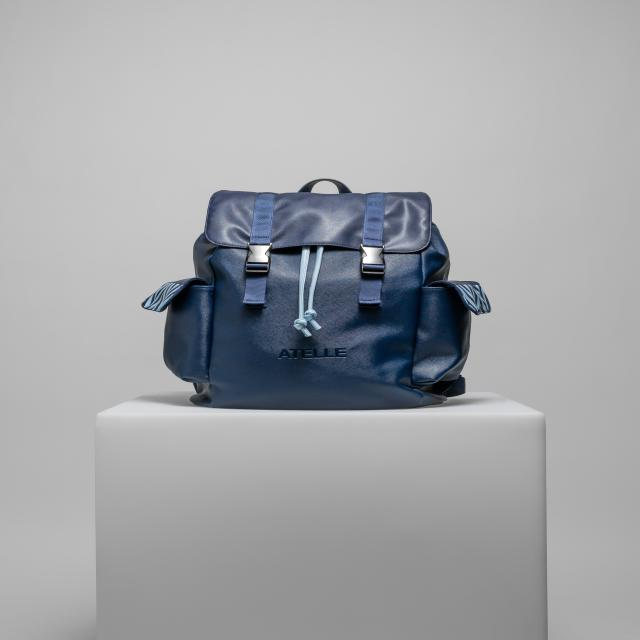backpack: (138, 186, 481, 404)
